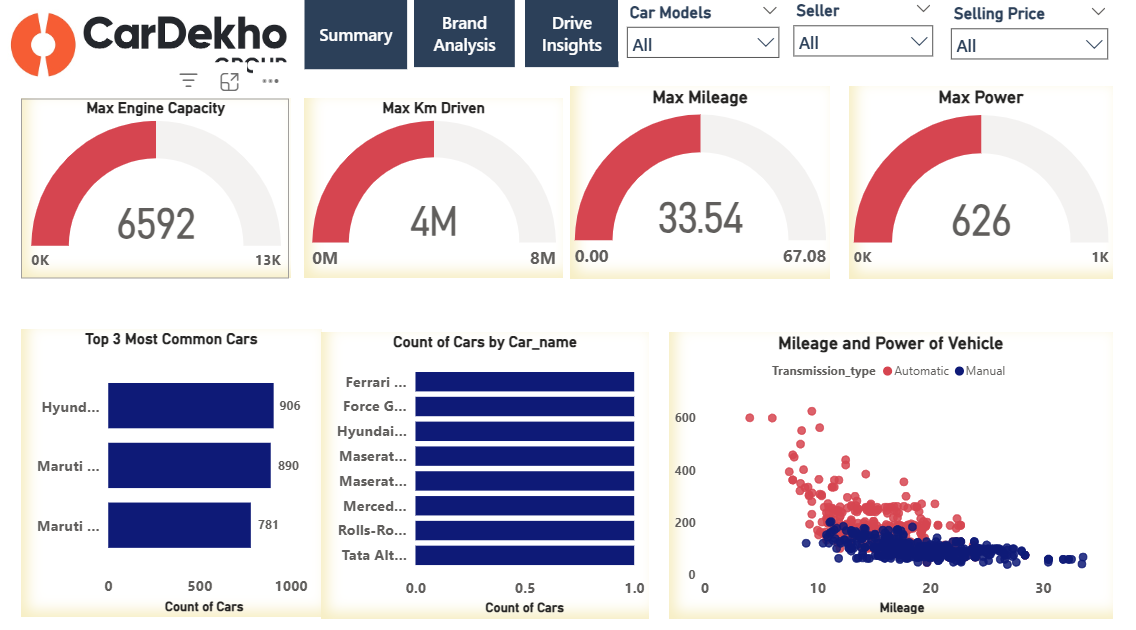

Layout of this report page (visuals, bound fields, positions):
{"tool":"powerbi","page":{"name":"Drive Insights","canvas":[1280,720],"ordinal":2},"visuals":[{"type":"image","box":[18.2,14.2,311.9,93.2],"z":0},{"type":"actionButton","box":[346.3,10.1,113.4,79],"z":1000},{"type":"actionButton","box":[467.8,12.2,111.4,74.9],"z":2000},{"type":"actionButton","box":[589.4,12.2,103.3,74.9],"z":3000},{"type":"slicer","title":"Car Models","fields":{"Values":["Cars.Car_name"]},"box":[692.5,9.7,188.2,70],"z":4000},{"type":"slicer","title":"Fuel Type","fields":{"Values":["Cars.Seller_type"]},"box":[875.9,8.4,173.7,70],"z":5000},{"type":"slicer","title":"Fuel Type","fields":{"Values":["Cars.Selling_price"]},"box":[1049.6,10.9,193,70],"z":6000},{"type":"gauge","fields":{"Y":["Cars.Max Engine Capacity"]},"box":[32.4,121.5,297.7,198.5],"z":7000},{"type":"gauge","fields":{"Y":["Cars.Max Km Driven"]},"box":[346.3,121.5,285.6,198.5],"z":8000},{"type":"gauge","title":"Max Mileage ","fields":{"Y":["Cars.Max Mileage Num"]},"box":[640,107.3,287.6,212.7],"z":9000},{"type":"gauge","fields":{"Y":["Cars.Max Power"]},"box":[947.8,107.3,291.6,212.7],"z":10000},{"type":"clusteredBarChart","title":"Top 3 Most Common Cars","fields":{"Category":["Cars.Car_name"],"Y":["Cars.Count of Cars"]},"box":[32.4,376.7,332.2,318],"z":11000},{"type":"clusteredBarChart","fields":{"Y":["Cars.Count of Cars"],"Category":["Cars.Car_name"]},"box":[364.6,378.7,362.5,315.9],"z":12000},{"type":"scatterChart","title":"Mileage and Power of Vehicle","fields":{"X":["Cars.Mileage"],"Y":["Cars.Max_power"],"Series":["Cars.Transmission_type"]},"box":[749.4,378.7,490.1,315.9],"z":13000}]}

Visuals, with their boxes on the page's 1280x720 design canvas (x1, y1, x2, y2). These are canvas units, not pixel positions in the 1136x630 screenshot, which may show the page scaled, cropped or inside an application window:
image: [18, 14, 330, 107]
actionButton: [346, 10, 460, 89]
actionButton: [468, 12, 579, 87]
actionButton: [589, 12, 693, 87]
"Car Models" slicer: [692, 10, 881, 80]
"Fuel Type" slicer: [876, 8, 1050, 78]
"Fuel Type" slicer: [1050, 11, 1243, 81]
gauge - Cars.Max Engine Capacity: [32, 122, 330, 320]
gauge - Cars.Max Km Driven: [346, 122, 632, 320]
"Max Mileage " gauge: [640, 107, 928, 320]
gauge - Cars.Max Power: [948, 107, 1239, 320]
"Top 3 Most Common Cars" clusteredBarChart: [32, 377, 365, 695]
clusteredBarChart - Cars.Count of Cars x Cars.Car_name: [365, 379, 727, 695]
"Mileage and Power of Vehicle" scatterChart: [749, 379, 1240, 695]
